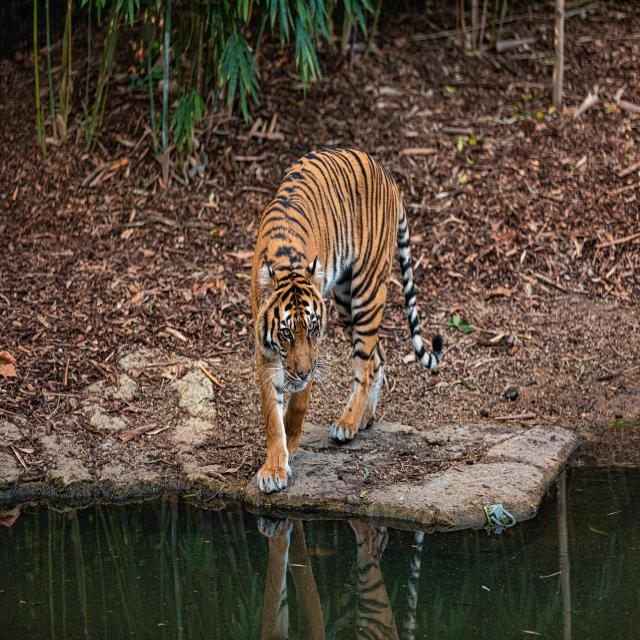Tiger: (252, 149, 444, 493)
